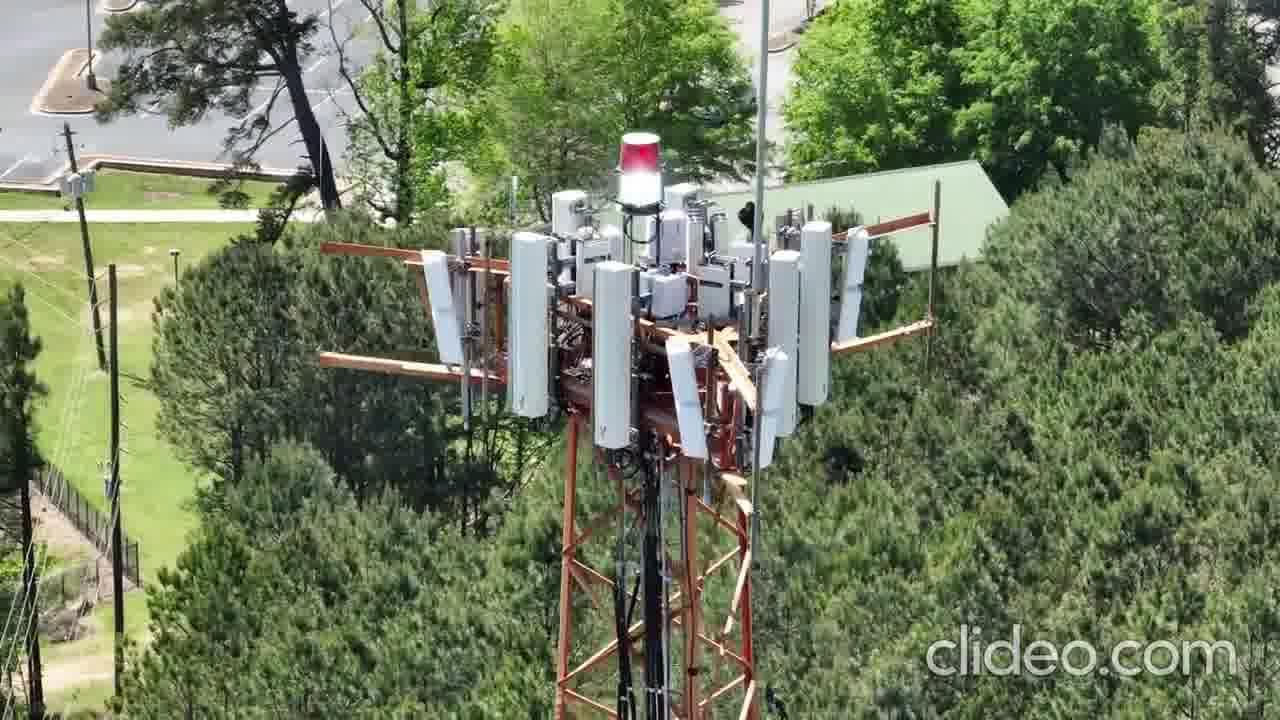antenna: (504, 233, 564, 428), (753, 239, 805, 452), (588, 249, 641, 457), (413, 241, 474, 383), (798, 211, 837, 423), (664, 331, 727, 454), (838, 223, 887, 352)
